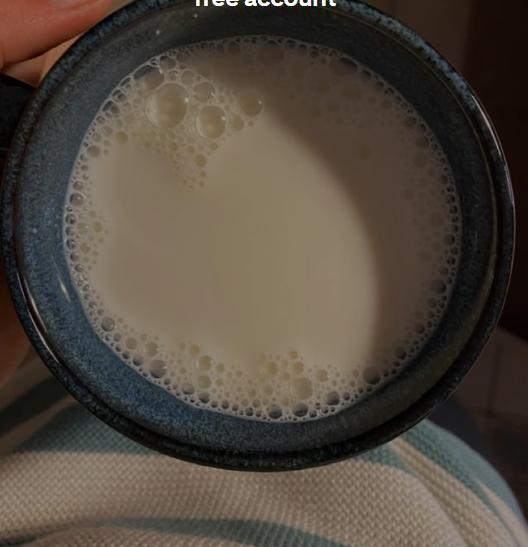produk_susu: (56, 25, 486, 437)
